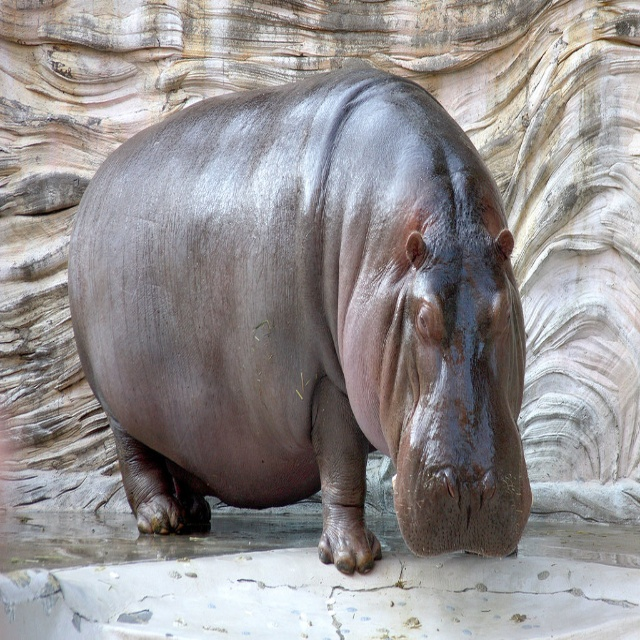Hippopotamus: (70, 67, 533, 577)
